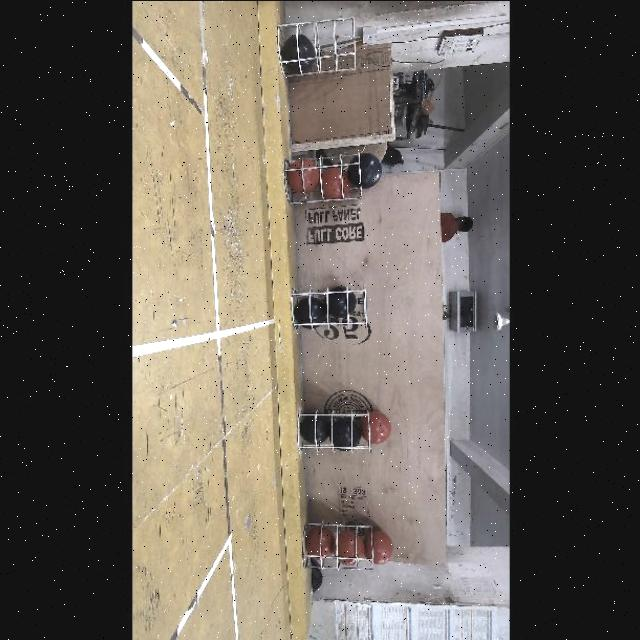P: (347, 152, 382, 188), (282, 34, 314, 70), (295, 298, 323, 328), (302, 412, 330, 442), (332, 420, 360, 450), (327, 286, 353, 314)
R: (359, 409, 392, 442), (364, 530, 393, 564), (290, 159, 318, 193), (335, 530, 363, 564), (321, 168, 347, 200), (308, 526, 332, 558)
S: (280, 148, 370, 206), (278, 16, 360, 78), (296, 404, 374, 458), (306, 520, 378, 572), (291, 285, 371, 331)
